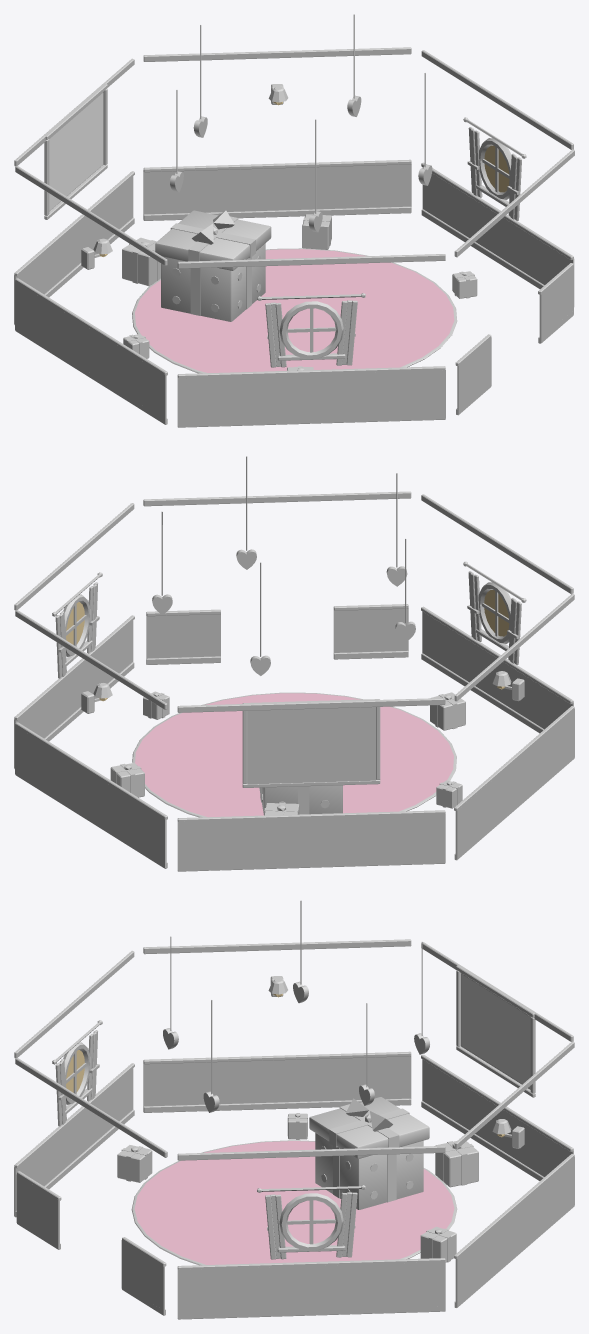
The model's file is zon_room_gift.glb.
3 views of the same model, one above another, from view 1: azimuth 30°, elevation 25°; view 2: azimuth 150°, elevation 25°; view 3: azimuth 270°, elevation 25° (orthographic).
Visible parts, largest first — view 1: SM_zon_room_gift_kit_interior_xm1_zm1, SM_zon_room_gift_room_rug_xm1_zm1, ANIM_fur_present_gift_lid__0, SCREEN_fur_screen_gift__0, SM_zon_room_gift_glow_vc_xm1_zm1; view 2: SM_zon_room_gift_kit_interior_xm1_zm1, SM_zon_room_gift_room_rug_xm1_zm1, SM_zon_room_gift_glow_vc_xm1_zm1; view 3: SM_zon_room_gift_kit_interior_xm1_zm1, SM_zon_room_gift_room_rug_xm1_zm1, SCREEN_fur_screen_gift__0, ANIM_fur_present_gift_lid__0.
Boxes of the visible parts, bbox=[...] form: SM_zon_room_gift_kit_interior_xm1_zm1: bbox=[14, 14, 574, 427]; SM_zon_room_gift_room_rug_xm1_zm1: bbox=[135, 249, 454, 372]; ANIM_fur_present_gift_lid__0: bbox=[155, 210, 271, 270]; SCREEN_fur_screen_gift__0: bbox=[49, 93, 103, 210]; SM_zon_room_gift_glow_vc_xm1_zm1: bbox=[99, 102, 509, 256]; SM_zon_room_gift_kit_interior_xm1_zm1: bbox=[14, 456, 574, 871]; SM_zon_room_gift_room_rug_xm1_zm1: bbox=[135, 693, 453, 817]; SM_zon_room_gift_glow_vc_xm1_zm1: bbox=[66, 590, 509, 701]; SM_zon_room_gift_kit_interior_xm1_zm1: bbox=[14, 900, 574, 1319]; SM_zon_room_gift_room_rug_xm1_zm1: bbox=[134, 1141, 454, 1264]; SCREEN_fur_screen_gift__0: bbox=[461, 974, 530, 1088]; ANIM_fur_present_gift_lid__0: bbox=[309, 1097, 429, 1158].
Size of the model in its own units: 9.04 by 5 by 9.93.
